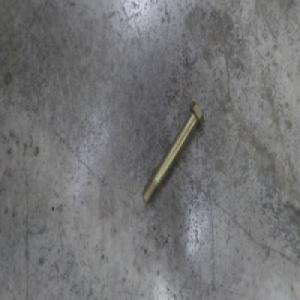Bolt: (141, 98, 204, 206)
